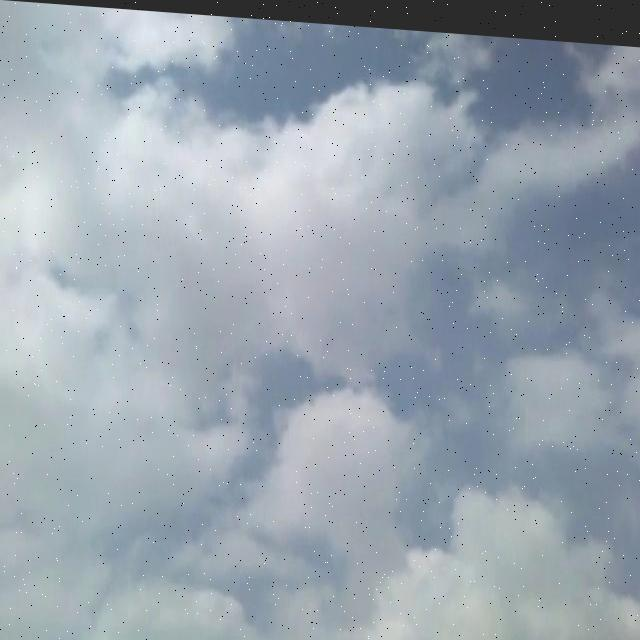drone: (307, 385, 315, 399)
